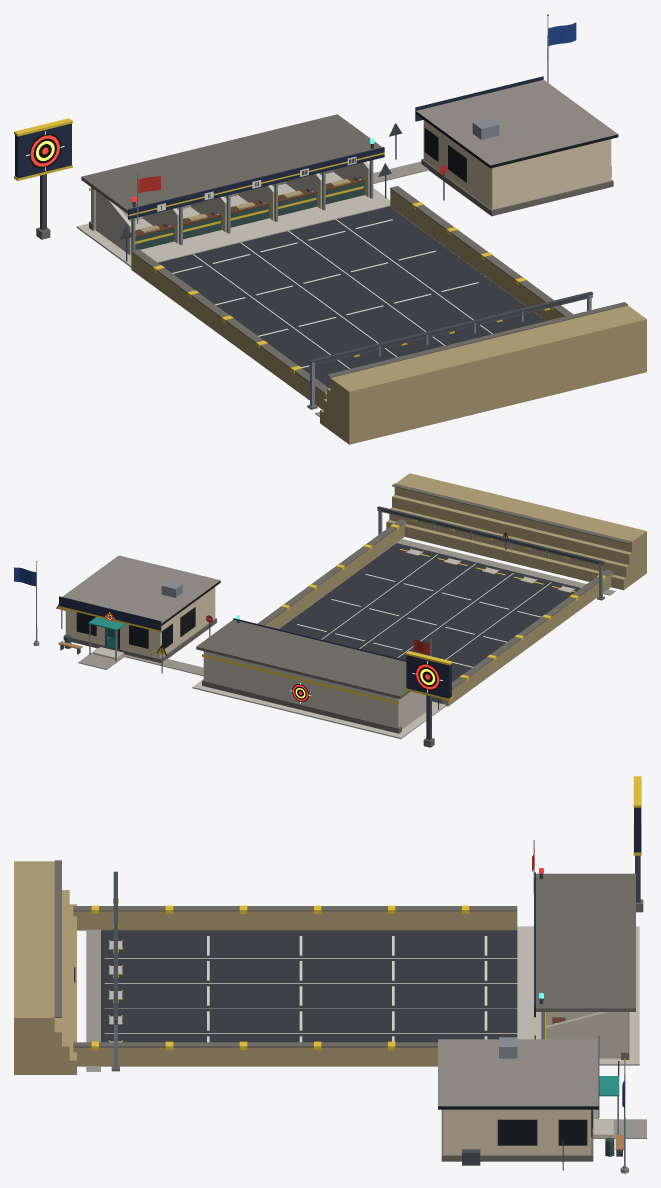
File: shooting_range.glb
The picture shows the model from 3 angles, top to bottom: view 1: azimuth 30°, elevation 25°; view 2: azimuth 150°, elevation 25°; view 3: azimuth 270°, elevation 25°; orthographic projection. The views are drawn at different scales.
Visible parts, largest first — view 1: Body; view 2: Body; view 3: Body.
Part boxes in pixels (x1=…): Body: x1=14, y1=14, x2=646, y2=444; Body: x1=14, y1=473, x2=646, y2=747; Body: x1=14, y1=776, x2=646, y2=1173.
Size of what is drawn, in the model's own units: 37.25 by 7.1 by 34.2.
